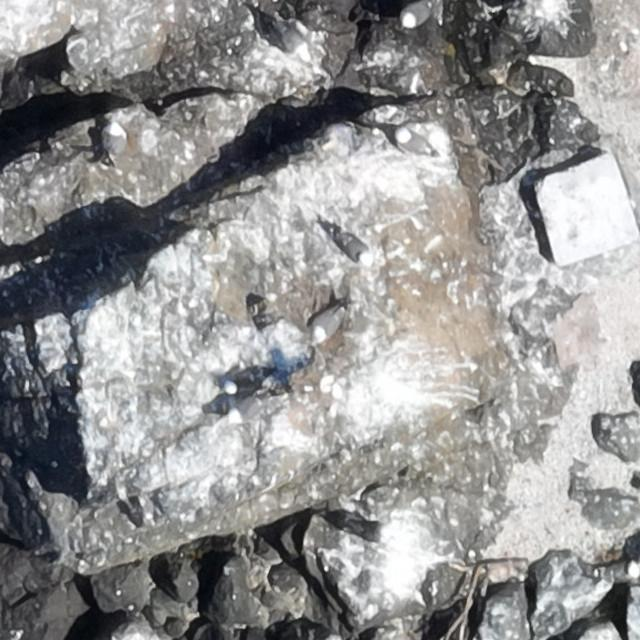umineko: (312, 298, 353, 342), (348, 515, 398, 546), (393, 125, 435, 161), (339, 233, 368, 262), (401, 1, 431, 28), (108, 124, 126, 154), (225, 380, 258, 395)
